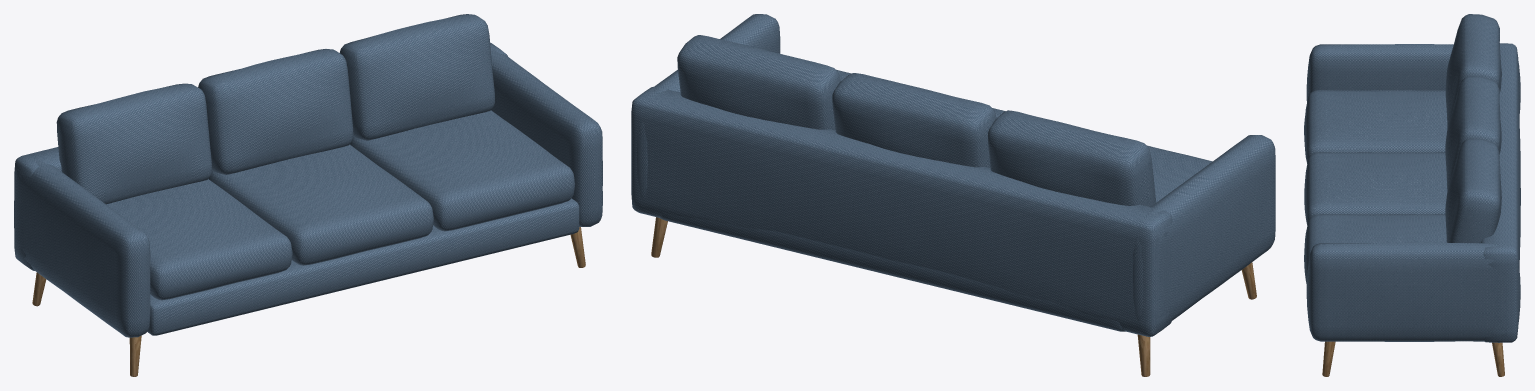
File: sofa_nordico_3p_azul.glb
The picture shows the model from 3 angles, left to right: view 1: azimuth 30°, elevation 25°; view 2: azimuth 150°, elevation 25°; view 3: azimuth 270°, elevation 25°; orthographic projection. The views are drawn at different scales.
Visible parts, largest first — view 1: sofa_nordico_3p_azul; view 2: sofa_nordico_3p_azul; view 3: sofa_nordico_3p_azul.
Part boxes in pixels (x1=…): sofa_nordico_3p_azul: x1=14, y1=14, x2=602, y2=376; sofa_nordico_3p_azul: x1=631, y1=14, x2=1275, y2=376; sofa_nordico_3p_azul: x1=1304, y1=14, x2=1520, y2=376.
Bounding box in the file's own units: 2.06 × 0.806 × 0.8909.
Materials: 2 (2 with a texture image).
